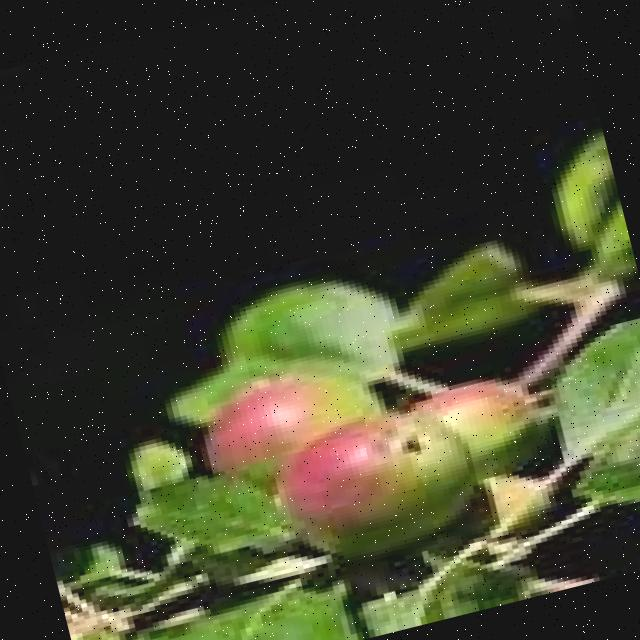Unripe: (260, 396, 486, 573)
